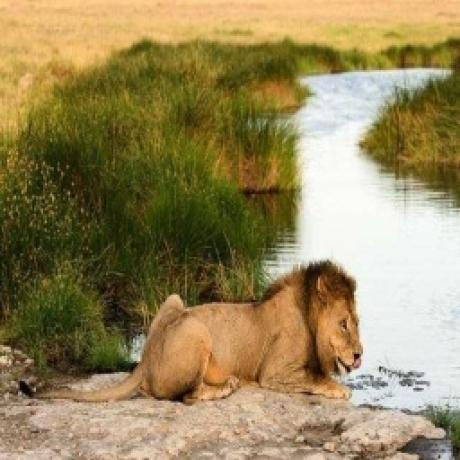Lion: (12, 256, 371, 405)
